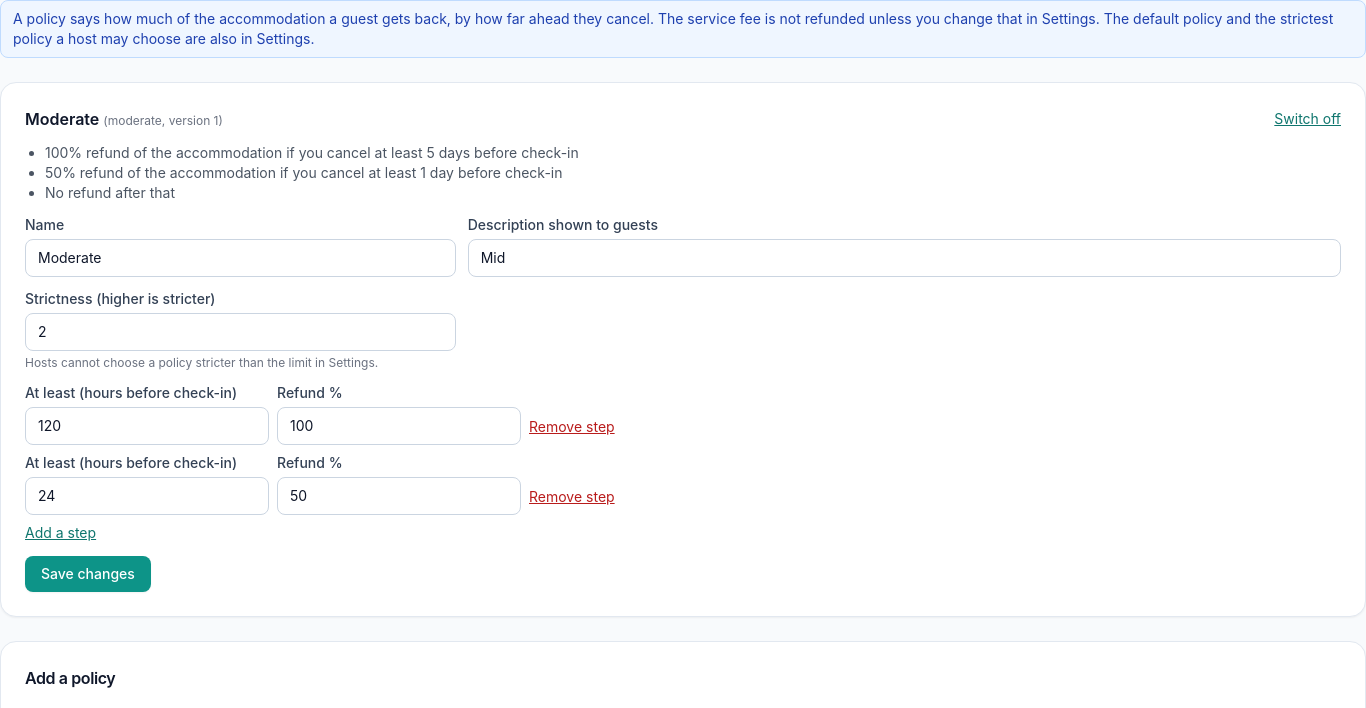
Test: admin cancellation policies › edits the steps of a policy and says existing bookings are unaffected
The width and height of the screenshot is (1366, 708).
Expected: the text "(moderate, version 1)" is shown, [103,113,223,128]
Step 1. Replace the text in the 2nd field labelled "At least (hours before check-in)" with "48" → (147, 496), box [25,477,269,515]
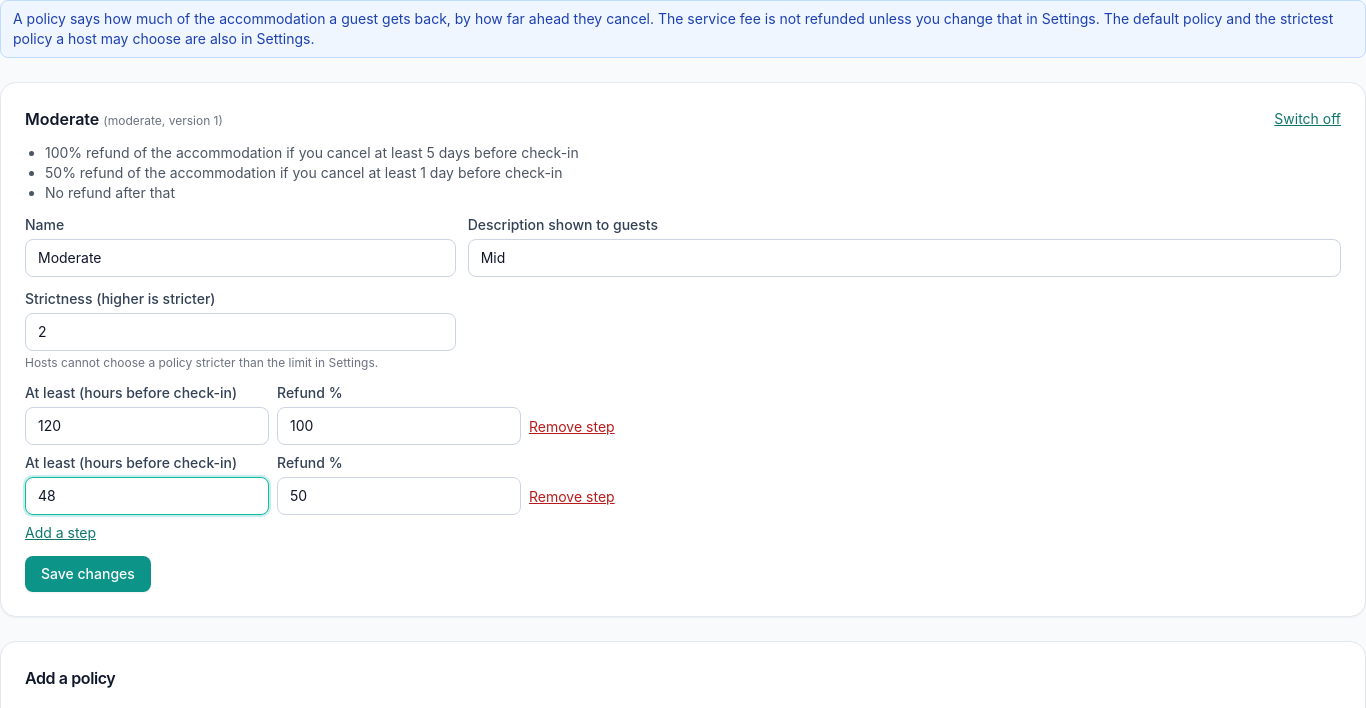
Step 2. Click the button "Save changes" → (88, 574), box [25,556,151,592]
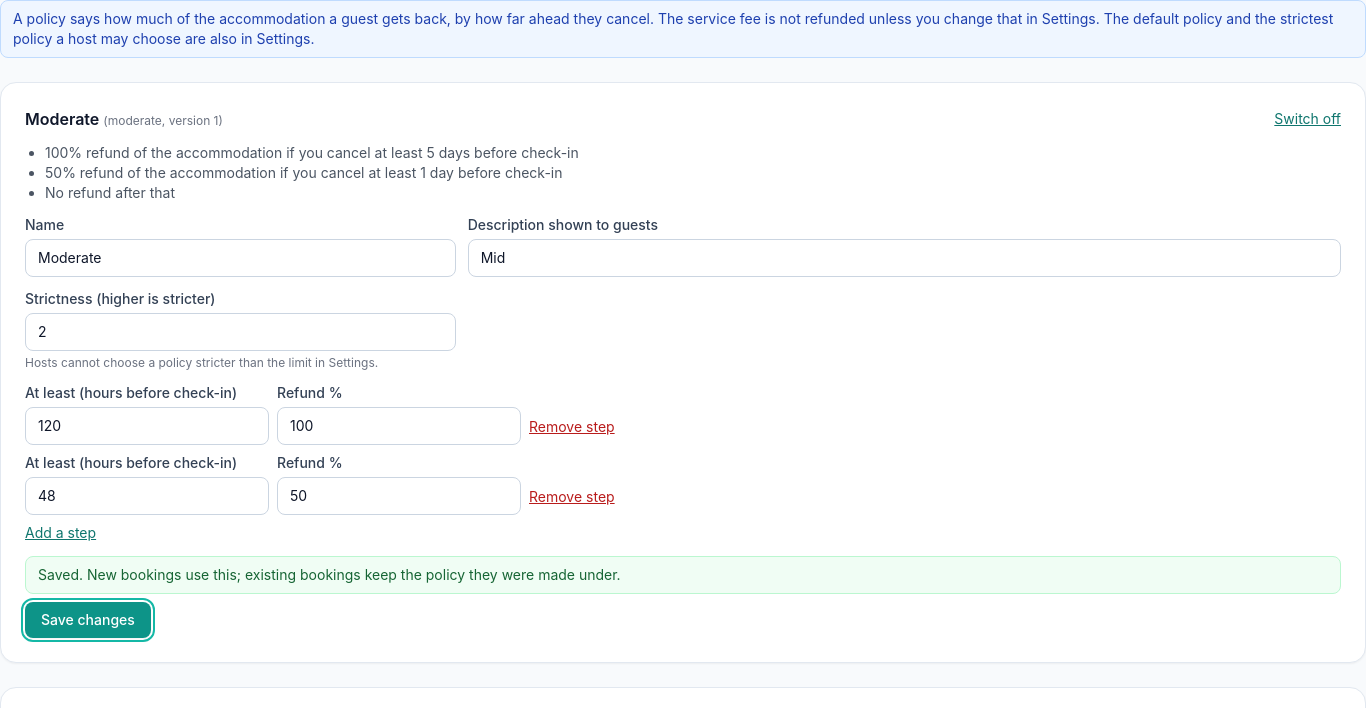
Expected: the text "existing bookings keep the policy they were made under" is shown, [38,566,621,583]
